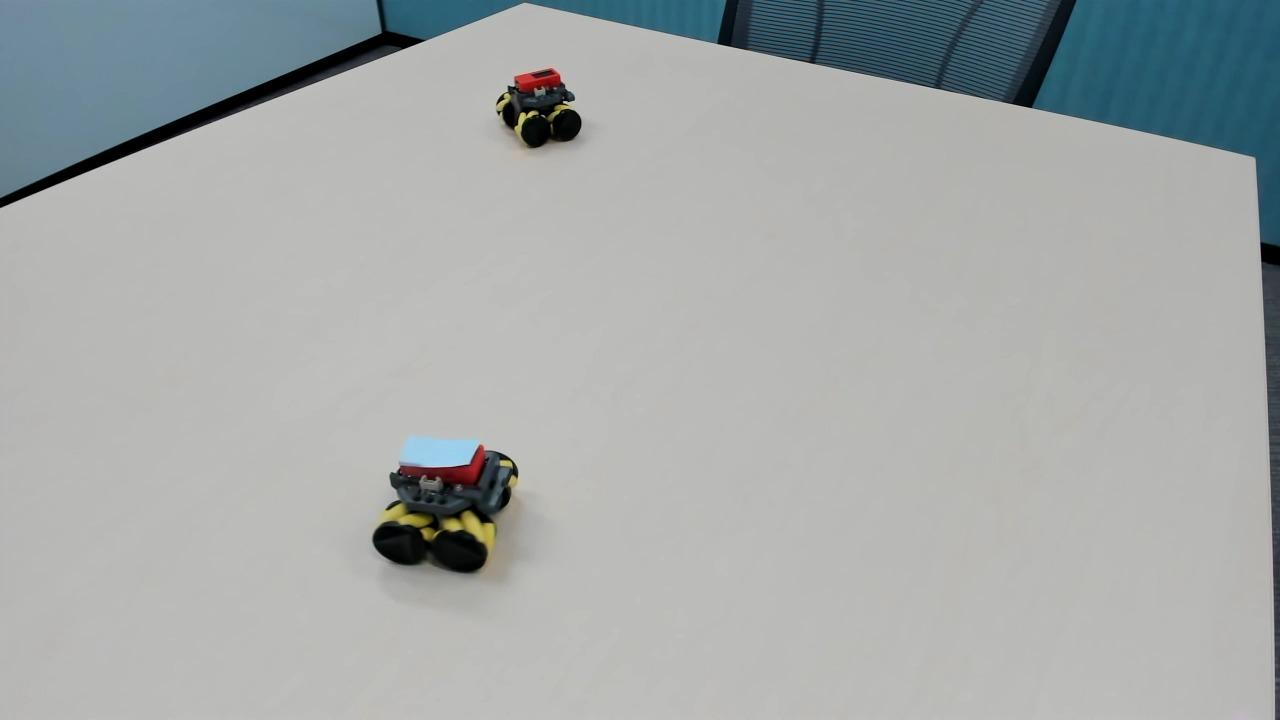B-Robot: (372, 429, 528, 584)
R-Robot: (484, 59, 595, 165)
